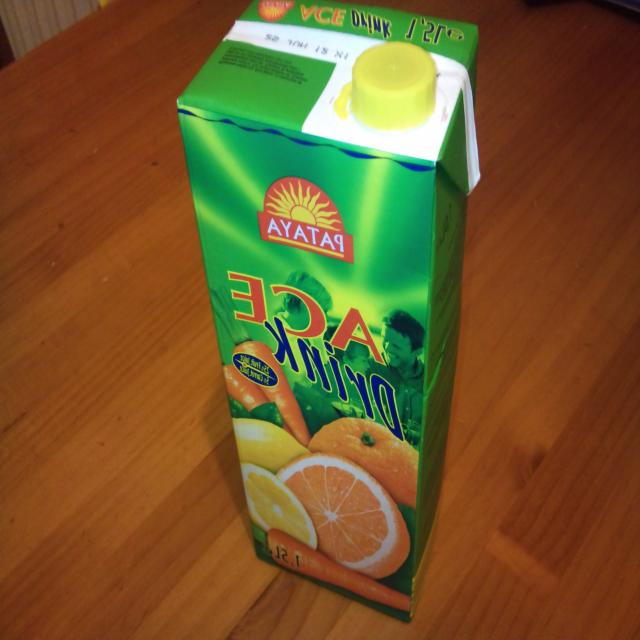cardboard: (188, 1, 481, 622)
